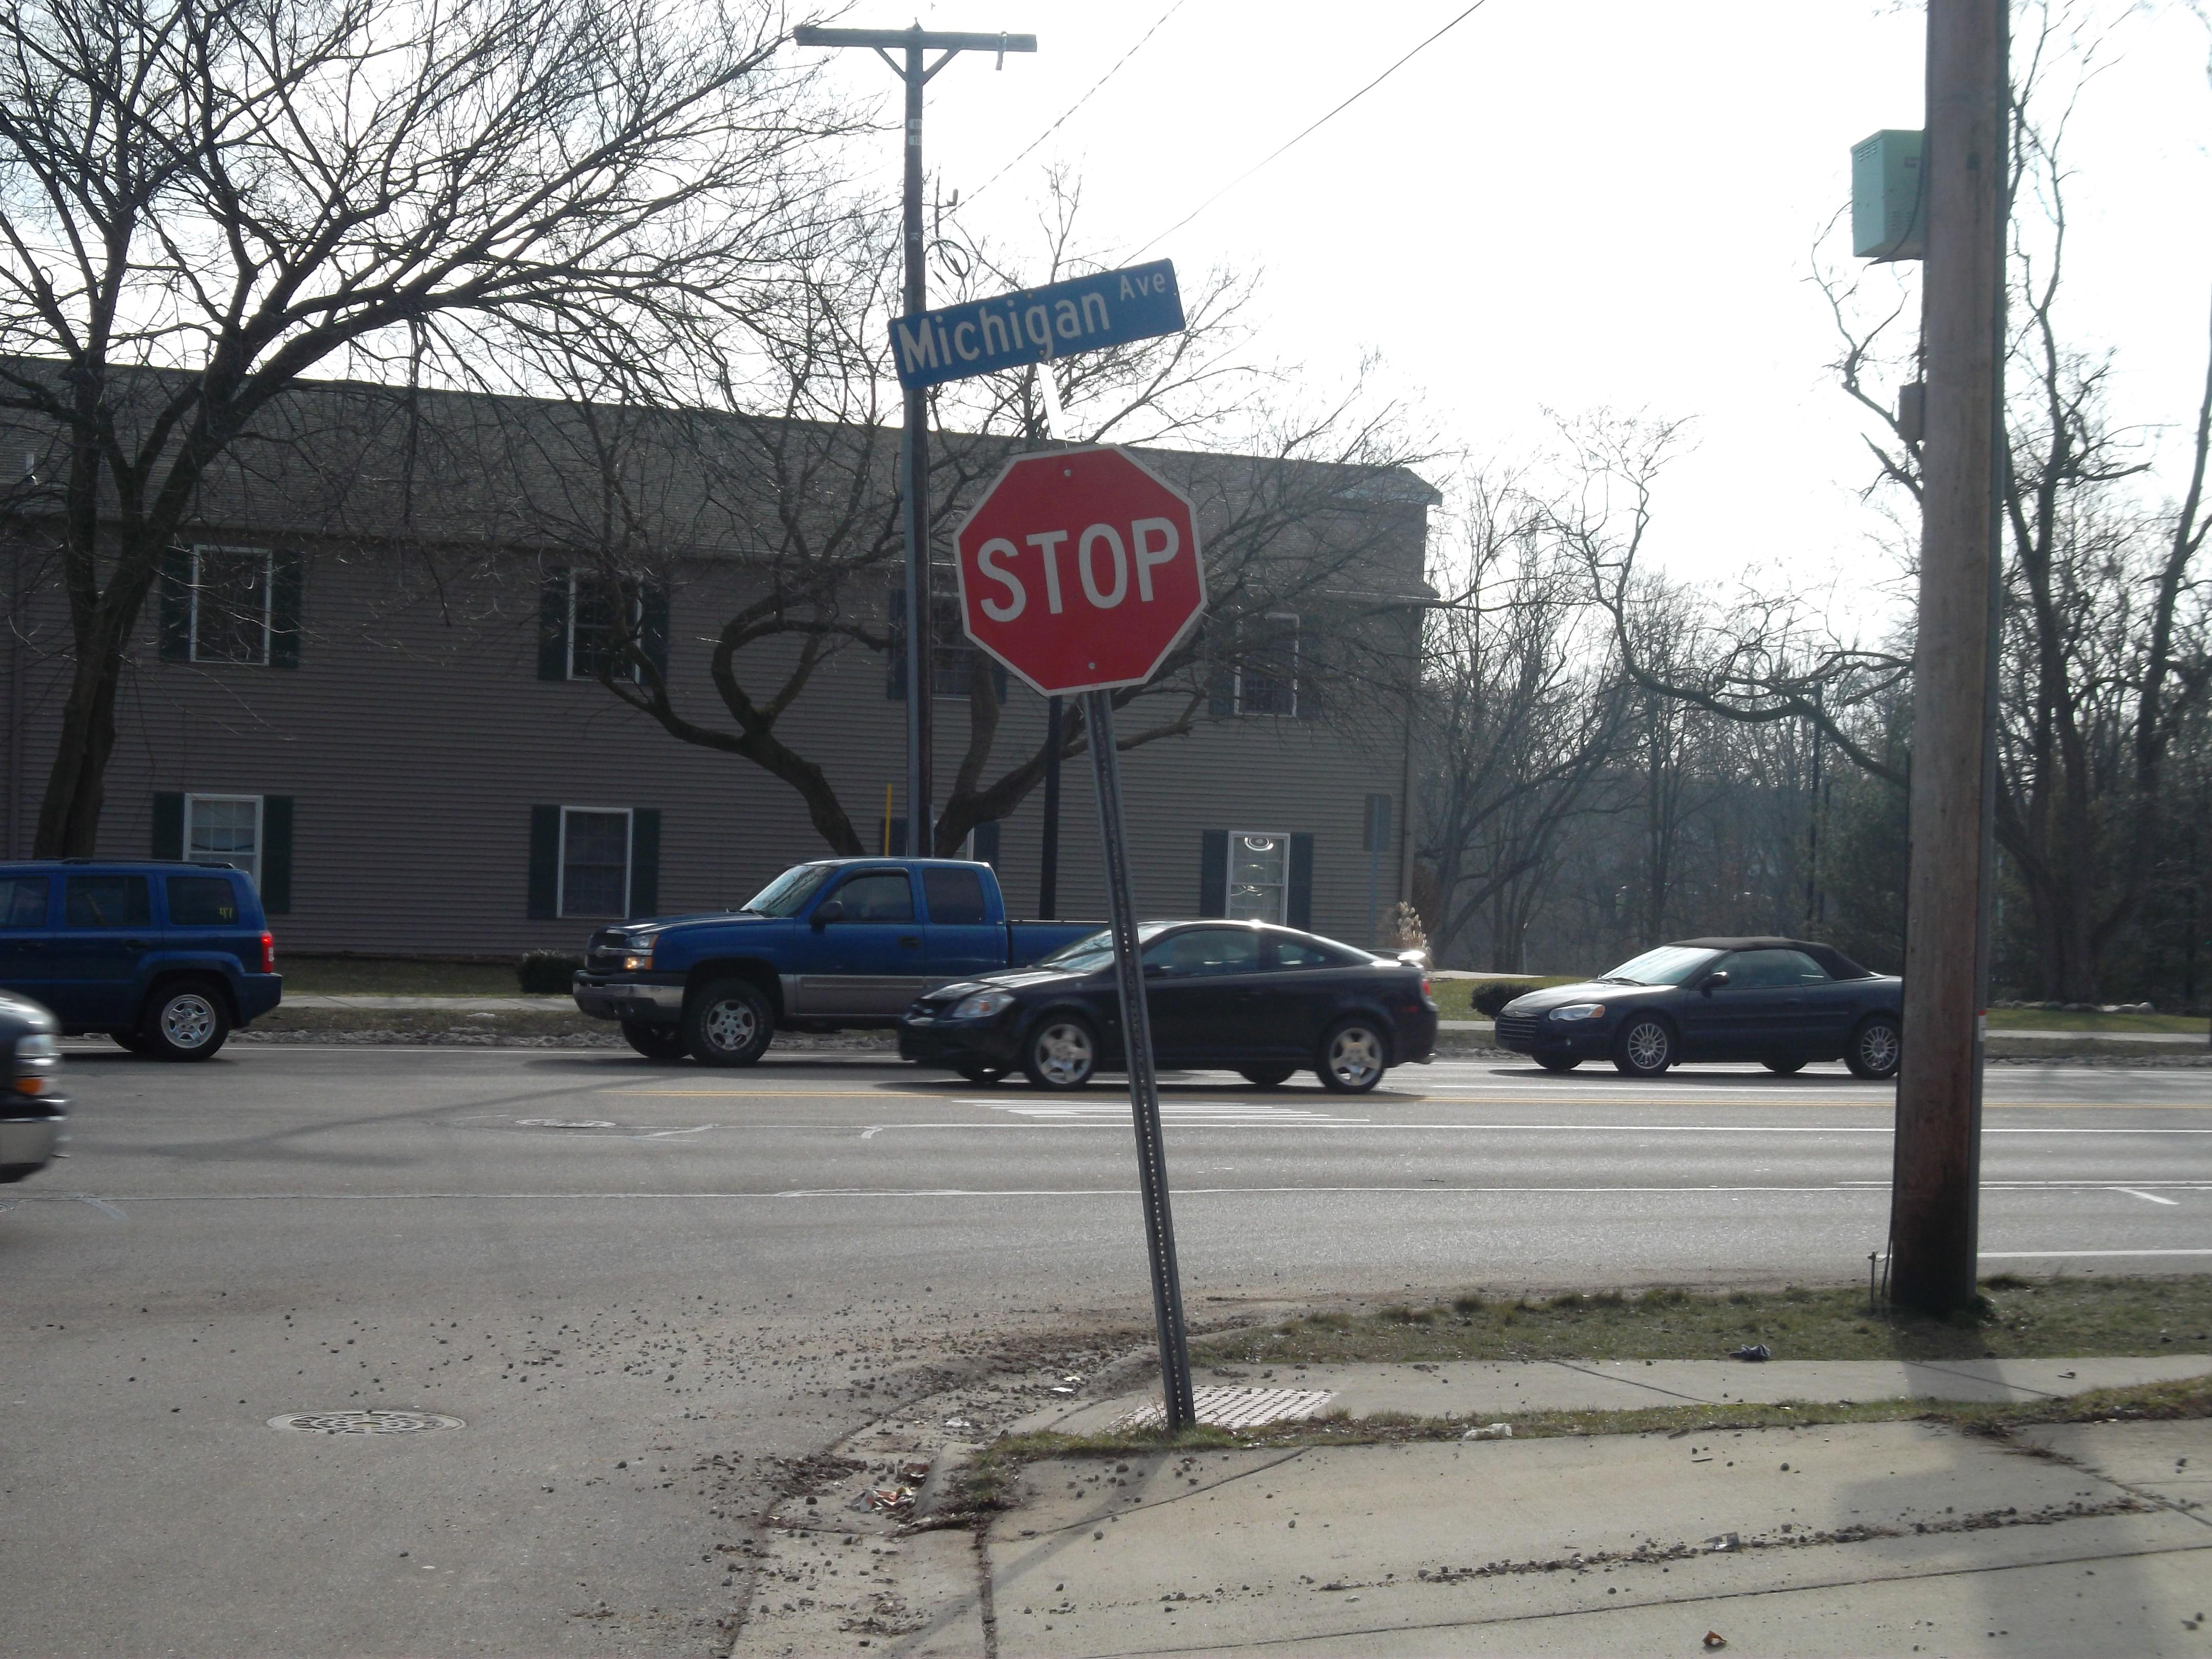stop: (951, 444, 1216, 711)
